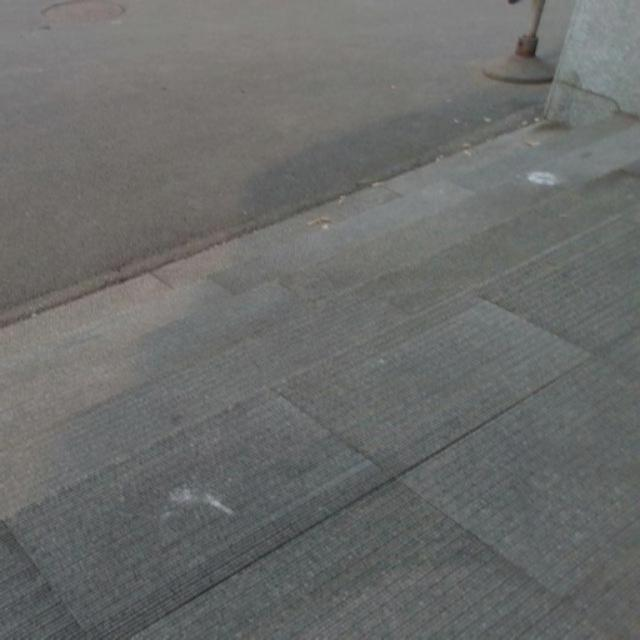stair: (0, 125, 624, 589)
